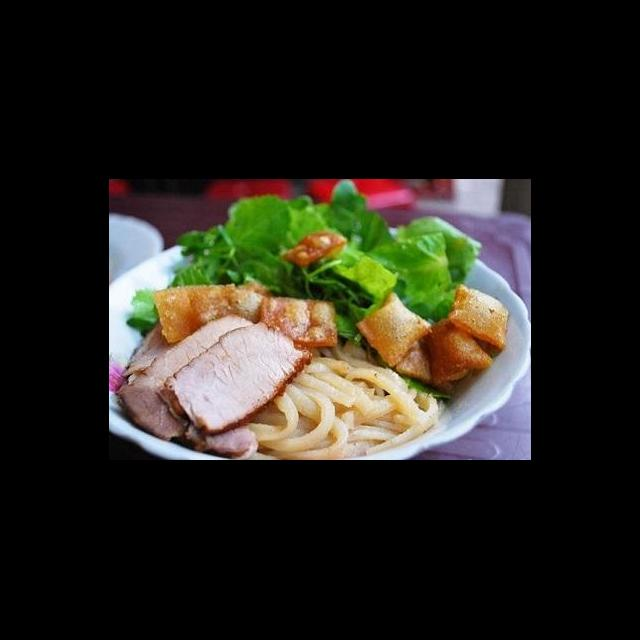banh da: (353, 290, 436, 370), (149, 280, 244, 348), (414, 314, 496, 388), (182, 276, 275, 334), (254, 292, 341, 348), (386, 332, 458, 396), (446, 282, 511, 352)
mi: (241, 334, 449, 460)
thit heo: (111, 312, 267, 446), (152, 318, 315, 440), (118, 316, 187, 381), (181, 416, 260, 460)
